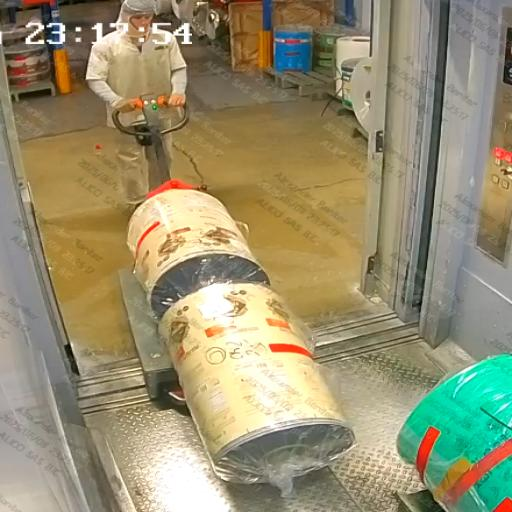rollos caidos: (95, 224, 387, 512)
